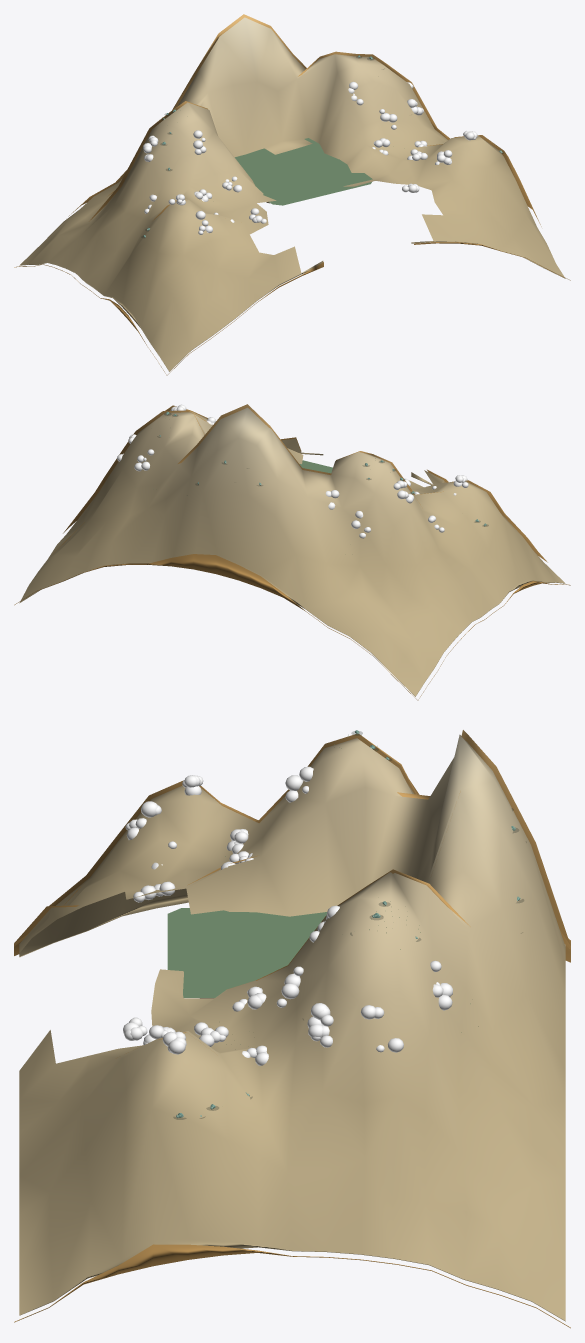
The model's file is terrain.glb.
The picture shows the model from 3 angles, top to bottom: view 1: azimuth 30°, elevation 25°; view 2: azimuth 150°, elevation 25°; view 3: azimuth 270°, elevation 25°; orthographic projection. The views are drawn at different scales.
Visible parts, largest first — view 1: citadel-oskar-grid-mountain-surface, highland-town-foundation-platform, backlit-highlight-citadel-oskar-grid-mountain-surface; view 2: citadel-oskar-grid-mountain-surface, backlit-highlight-citadel-oskar-grid-mountain-surface; view 3: citadel-oskar-grid-mountain-surface, highland-town-foundation-platform, backlit-highlight-citadel-oskar-grid-mountain-surface.
Part boxes in pixels (x1=…): citadel-oskar-grid-mountain-surface: x1=19, y1=17, x2=565, y2=371; highland-town-foundation-platform: x1=235, y1=138, x2=372, y2=205; backlit-highlight-citadel-oskar-grid-mountain-surface: x1=14, y1=14, x2=570, y2=375; citadel-oskar-grid-mountain-surface: x1=19, y1=407, x2=565, y2=696; backlit-highlight-citadel-oskar-grid-mountain-surface: x1=14, y1=404, x2=570, y2=700; citadel-oskar-grid-mountain-surface: x1=19, y1=734, x2=565, y2=1321; highland-town-foundation-platform: x1=167, y1=908, x2=326, y2=997; backlit-highlight-citadel-oskar-grid-mountain-surface: x1=14, y1=730, x2=570, y2=1328.
Size of the model in its own units: 184 by 99.61 by 120.
